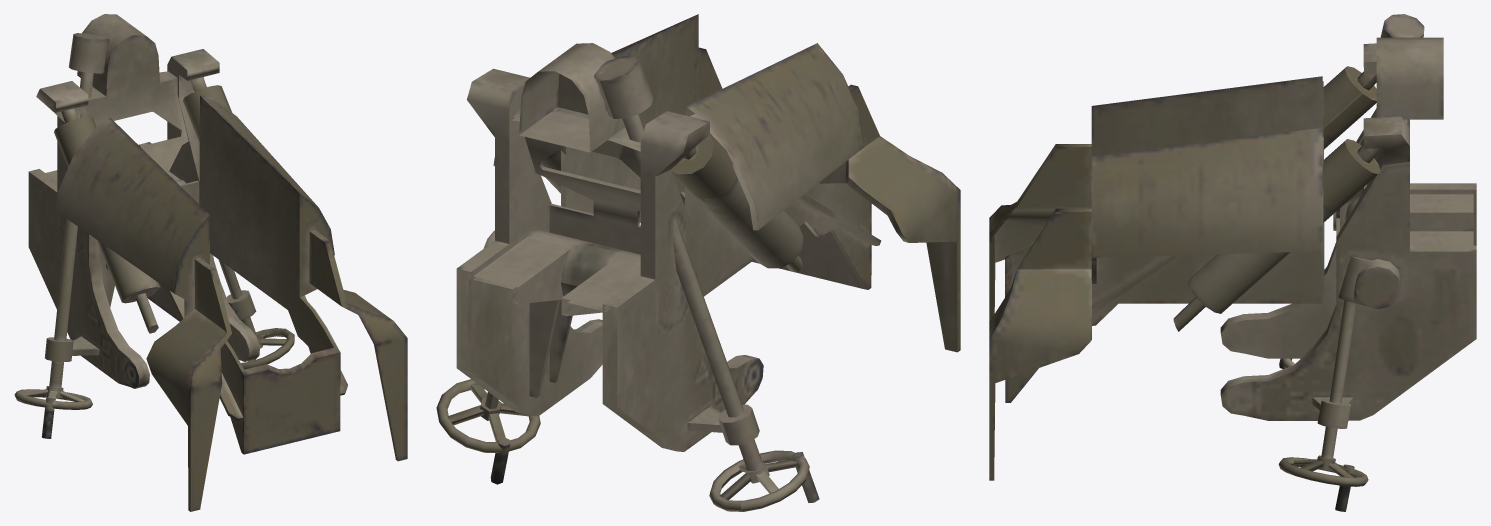
File: Turret_01.glb
3 views of the same model, side by side, from view 1: azimuth 30°, elevation 25°; view 2: azimuth 150°, elevation 25°; view 3: azimuth 270°, elevation 25° (orthographic). The views are drawn at different scales.
Visible parts, largest first — view 1: set_0_group_0; view 2: set_0_group_0; view 3: set_0_group_0.
Part boxes in pixels (bbox=[...]): set_0_group_0: bbox=[14, 14, 407, 511]; set_0_group_0: bbox=[436, 14, 960, 511]; set_0_group_0: bbox=[989, 14, 1476, 511].
Bounding box in the file's own units: 0.7387 × 0.9556 × 0.9962.
1 material, 1 textured.
